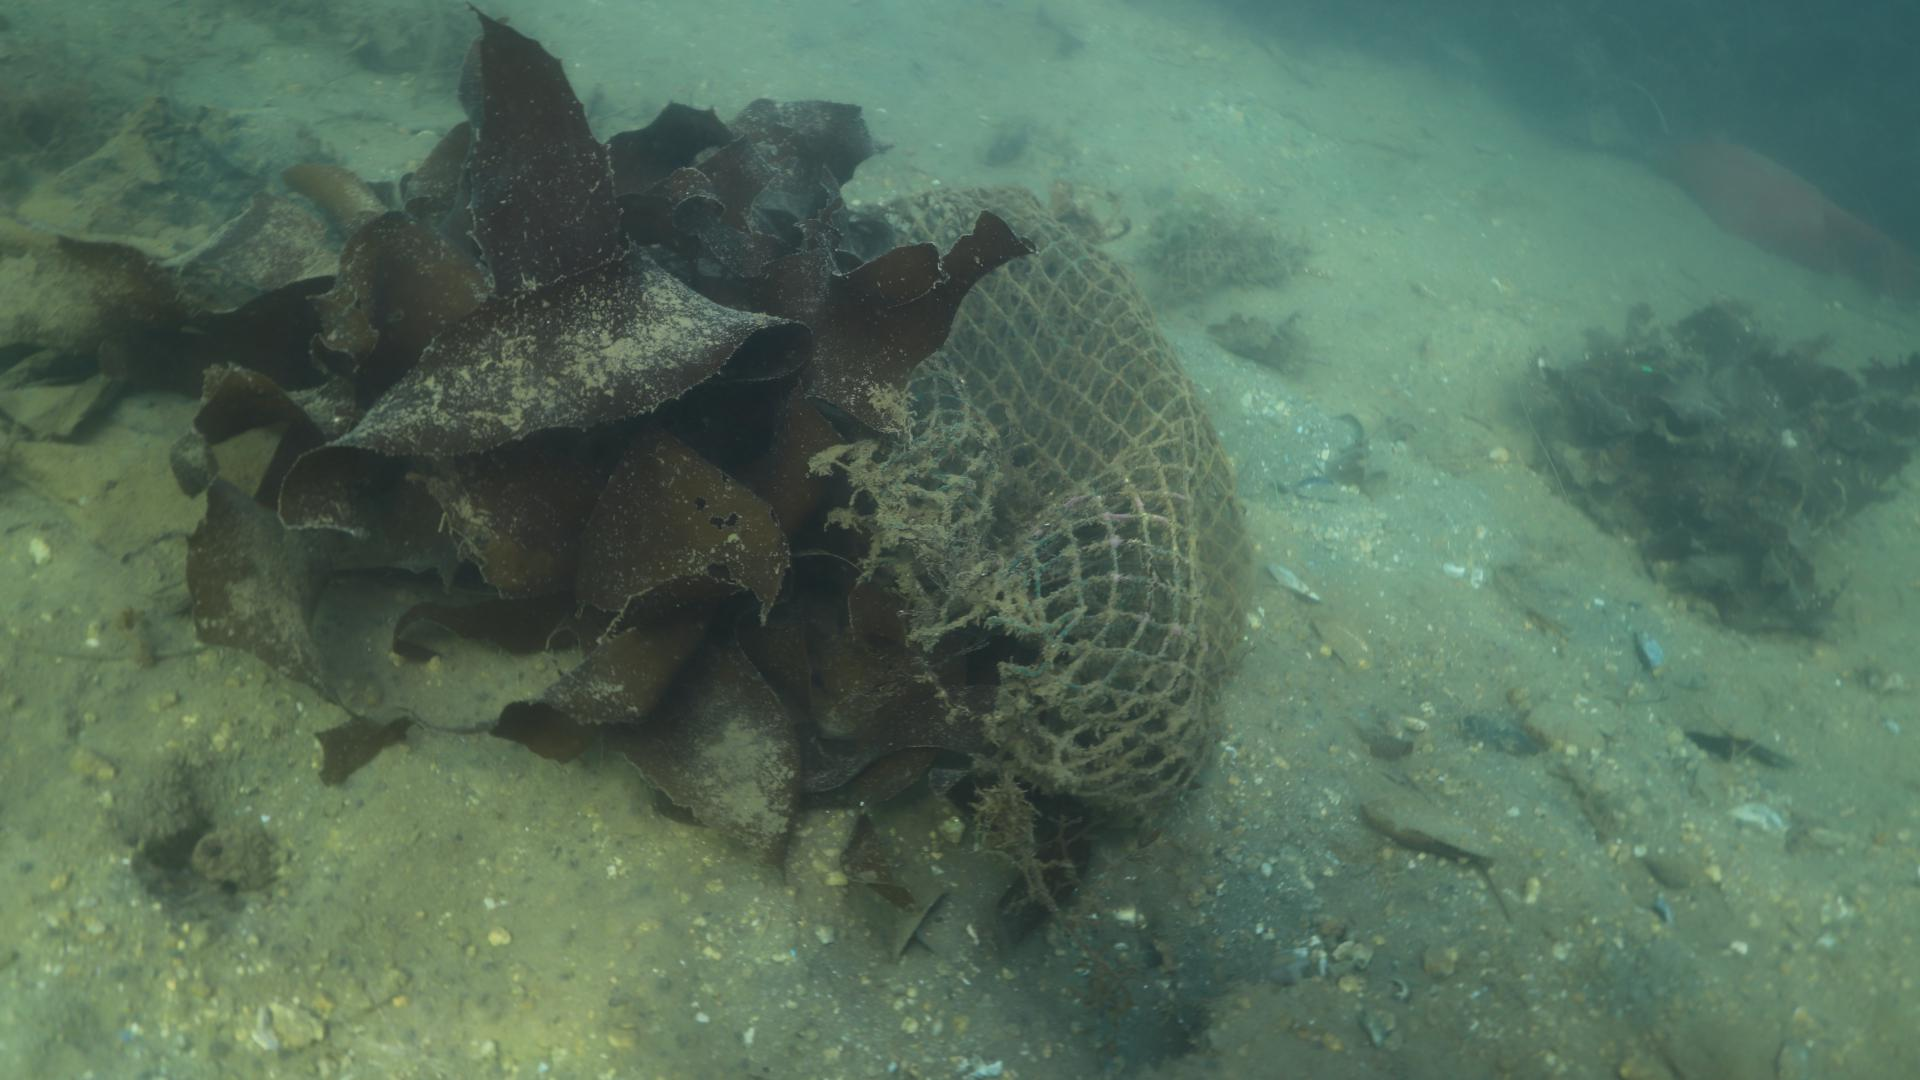fish net: (865, 181, 1257, 804)
